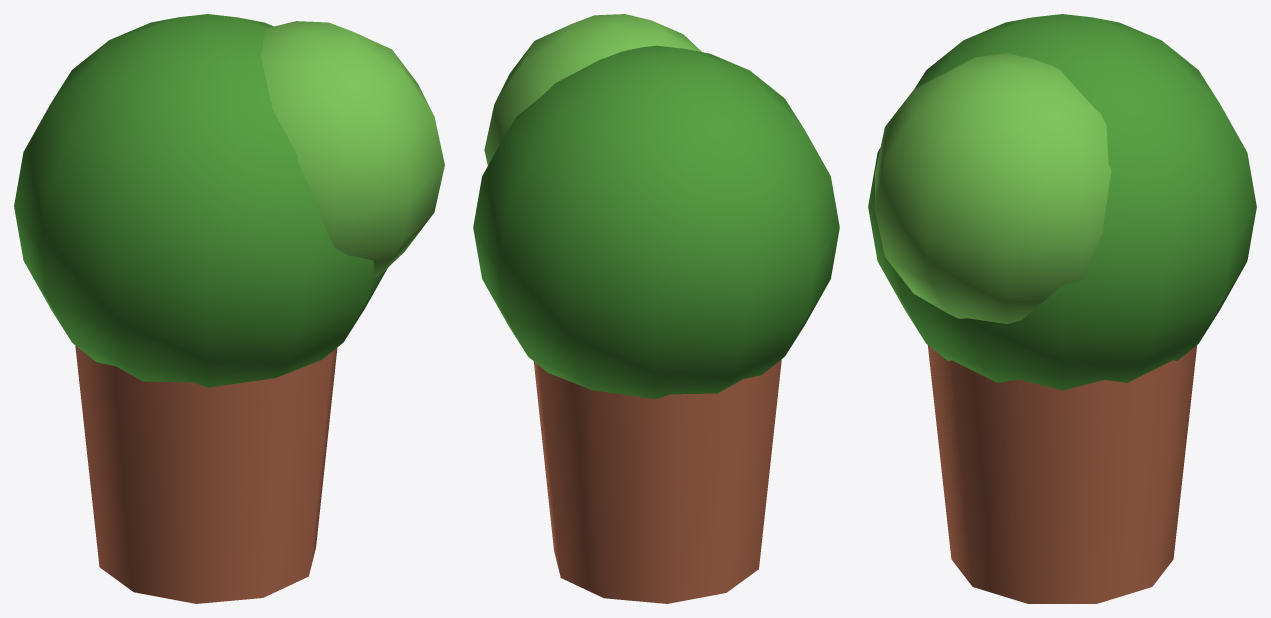
Rendered from plant.glb.
3 views of the same model, side by side, from view 1: azimuth 30°, elevation 25°; view 2: azimuth 150°, elevation 25°; view 3: azimuth 270°, elevation 25° (orthographic). The views are drawn at different scales.
Parts seen in each view (by area): view 1: plant; view 2: plant; view 3: plant.
Part boxes in pixels (x1=…): plant: x1=14, y1=14, x2=444, y2=603; plant: x1=473, y1=14, x2=839, y2=603; plant: x1=868, y1=14, x2=1256, y2=603.
Bounding box in the file's own units: 15 × 21 × 14.
